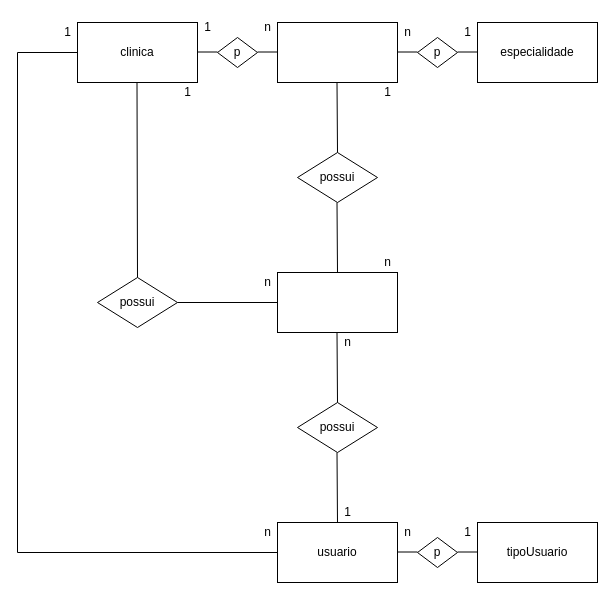
The diagram is 615 pixels wide and 600 high, and some of its shapes have lost their labels. The shapes that lost their labels are listed below. From the top down, each one's box as (x1, y1, x2, y2) in pixels, then its label:
(276, 22, 398, 82): medico
(276, 272, 398, 332): consulta
